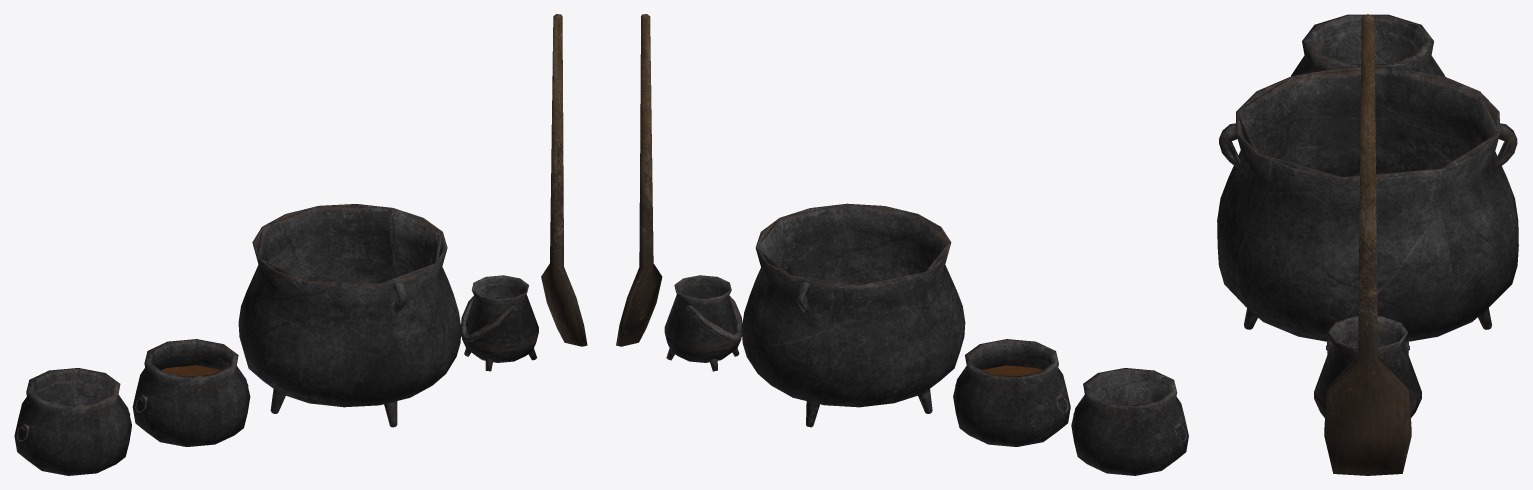
Rendered from Cauldron_1.fbx.
3 views of the same model, side by side, from view 1: azimuth 30°, elevation 25°; view 2: azimuth 150°, elevation 25°; view 3: azimuth 270°, elevation 25° (orthographic). The views are drawn at different scales.
Visible parts, largest first — view 1: Circle.008, Circle.011, Circle.001, Circle.007, Circle.006, Circle.014, Circle.012, Circle.010, Circle, Circle.013, Circle.003, Circle.009 (+2 smaller); view 2: Circle.008, Circle.011, Circle.001, Circle.007, Circle.006, Circle.014, Circle.012, Circle.010, Circle, Circle.013, Circle.003, Circle.009 (+2 smaller); view 3: Circle.008, Circle.011, Circle, Circle.001, Circle.012, Circle.014, Circle.007, Circle.004.
Boxes of the visible parts, left/top/right/bottom form: Circle.008: left=241, top=204, right=459, bottom=407; Circle.011: left=258, top=206, right=441, bottom=311; Circle.001: left=238, top=281, right=461, bottom=427; Circle.007: left=14, top=394, right=131, bottom=475; Circle.006: left=132, top=366, right=250, bottom=446; Circle.014: left=464, top=275, right=538, bottom=360; Circle.012: left=26, top=368, right=120, bottom=417; Circle.010: left=541, top=18, right=570, bottom=341; Circle: left=553, top=14, right=587, bottom=346; Circle.013: left=144, top=339, right=238, bottom=388; Circle.003: left=150, top=341, right=232, bottom=370; Circle.009: left=541, top=277, right=581, bottom=346; Circle.008: left=743, top=203, right=962, bottom=407; Circle.011: left=758, top=204, right=948, bottom=311; Circle.001: left=741, top=281, right=965, bottom=427; Circle.007: left=1071, top=394, right=1188, bottom=475; Circle.006: left=953, top=366, right=1070, bottom=446; Circle.014: left=664, top=275, right=739, bottom=365; Circle.012: left=1083, top=368, right=1177, bottom=417; Circle.010: left=621, top=18, right=662, bottom=346; Circle: left=616, top=14, right=650, bottom=346; Circle.013: left=965, top=339, right=1058, bottom=388; Circle.003: left=970, top=341, right=1053, bottom=370; Circle.009: left=621, top=277, right=662, bottom=346; Circle.008: left=1219, top=67, right=1517, bottom=341; Circle.011: left=1226, top=68, right=1513, bottom=176; Circle: left=1324, top=14, right=1411, bottom=475; Circle.001: left=1217, top=123, right=1518, bottom=329; Circle.012: left=1302, top=14, right=1433, bottom=71; Circle.014: left=1314, top=316, right=1421, bottom=404; Circle.007: left=1291, top=55, right=1445, bottom=76; Circle.004: left=1314, top=342, right=1421, bottom=417.
Bounding box in the file's own units: 928 × 525 × 318.
